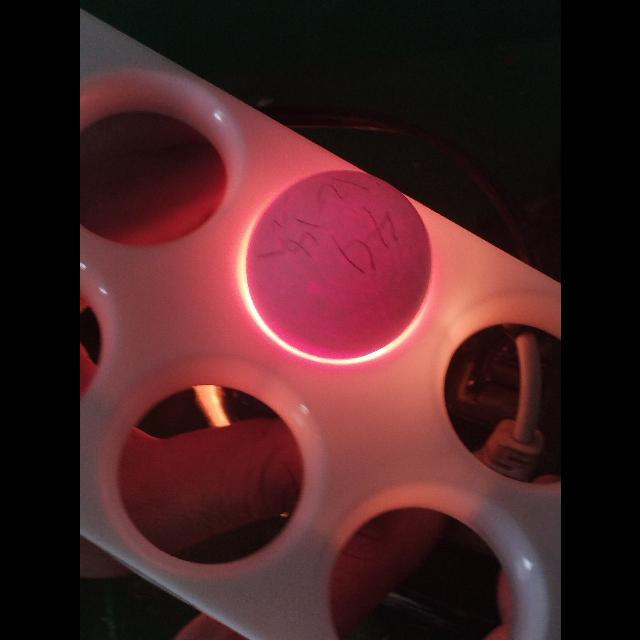Fertile: (241, 170, 431, 358)
